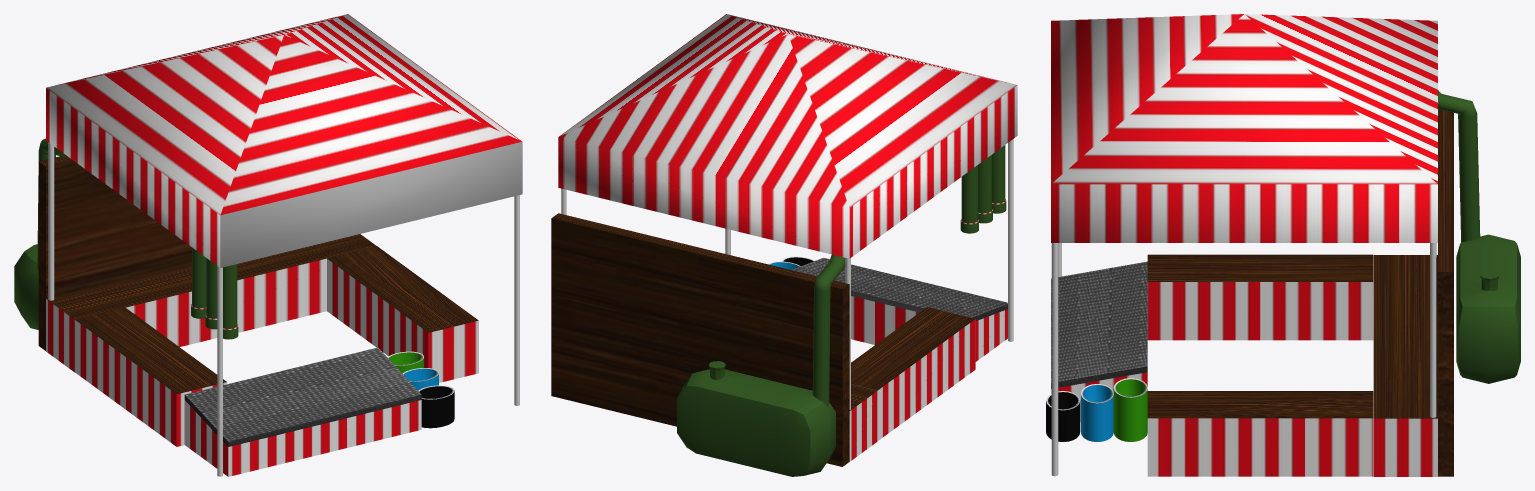
Rendered from carnival_tent.fbx.
3 renders of one model, left to right at view 1: azimuth 30°, elevation 25°; view 2: azimuth 150°, elevation 25°; view 3: azimuth 270°, elevation 25°, orthographic. The views are drawn at different scales.
Parts seen in each view (by area): view 1: Tent, ConveyorBelt, BackWall, RightTable, LeftTable, Pipes, LandfilBin, RecycleBin, CompostBin; view 2: Tent, BackWall, Pipes, LeftTable, ConveyorBelt; view 3: Tent, LeftTable, RightTable, Pipes, ConveyorBelt, BackWall, CompostBin, RecycleBin, LandfilBin.
Part boxes in pixels (x1=…): Tent: x1=46, y1=14, x2=522, y2=476; ConveyorBelt: x1=184, y1=347, x2=421, y2=476; BackWall: x1=38, y1=156, x2=191, y2=350; RightTable: x1=327, y1=246, x2=478, y2=382; LeftTable: x1=75, y1=307, x2=227, y2=446; Pipes: x1=14, y1=138, x2=238, y2=339; LandfilBin: x1=418, y1=385, x2=454, y2=428; RecycleBin: x1=402, y1=368, x2=438, y2=390; CompostBin: x1=387, y1=351, x2=423, y2=373; Tent: x1=558, y1=14, x2=1017, y2=461; BackWall: x1=551, y1=213, x2=849, y2=466; Pipes: x1=677, y1=145, x2=1006, y2=476; LeftTable: x1=851, y1=307, x2=975, y2=440; ConveyorBelt: x1=792, y1=257, x2=1007, y2=361; Tent: x1=1051, y1=14, x2=1437, y2=476; LeftTable: x1=1147, y1=254, x2=1373, y2=340; RightTable: x1=1147, y1=391, x2=1373, y2=476; Pipes: x1=1438, y1=90, x2=1520, y2=383; ConveyorBelt: x1=1051, y1=261, x2=1147, y2=422; BackWall: x1=1438, y1=109, x2=1453, y2=476; CompostBin: x1=1113, y1=378, x2=1147, y2=441; RecycleBin: x1=1081, y1=384, x2=1113, y2=441; LandfilBin: x1=1046, y1=391, x2=1080, y2=441.
Size of the model in its own units: 12.07 by 13.04 by 14.72.
10 materials, 4 textured.
